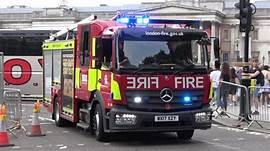Fire-engine: (40, 11, 215, 142)
